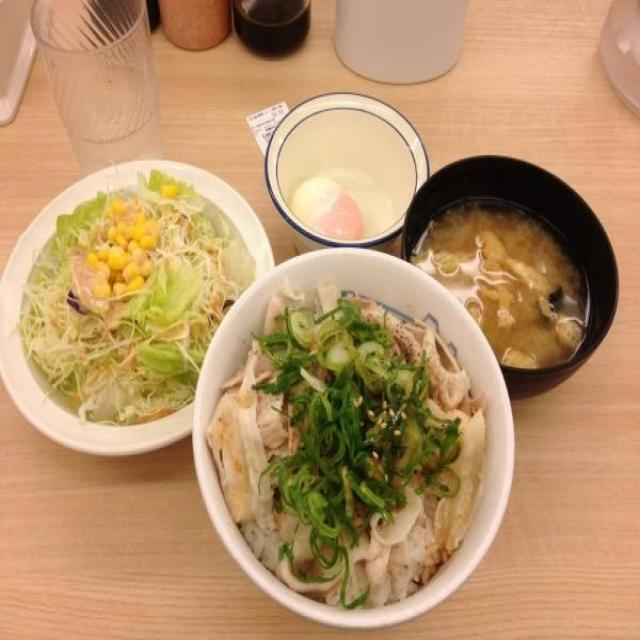Green Salad: (32, 178, 236, 404)
